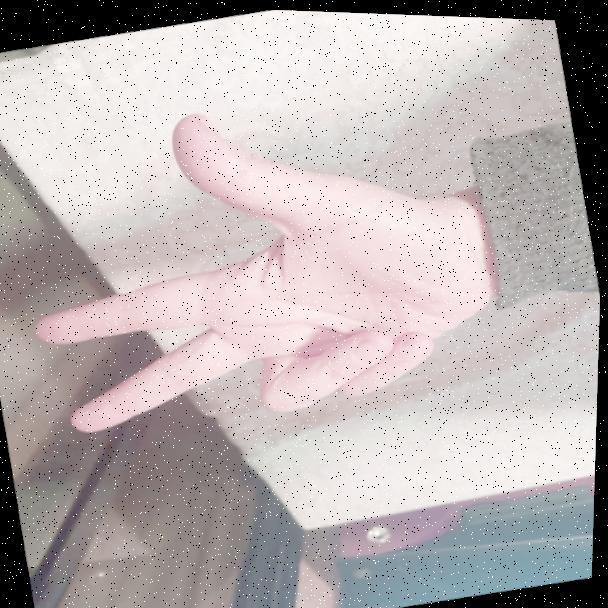three: (0, 63, 508, 461)
